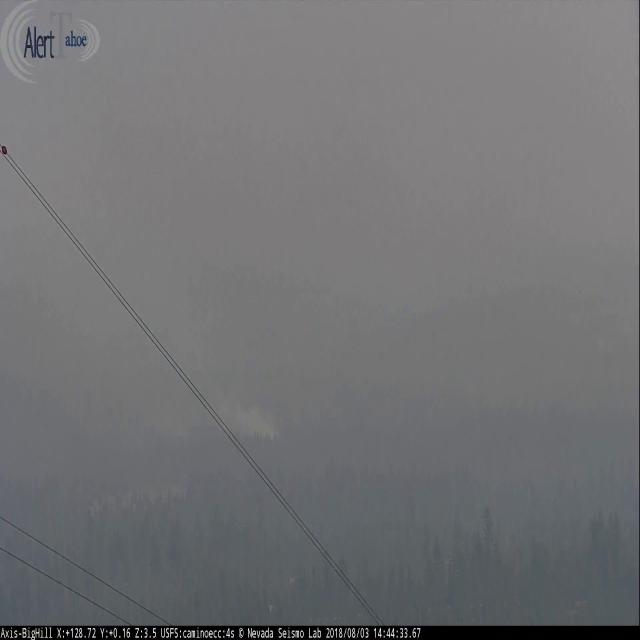smoke: (161, 347, 278, 442)
